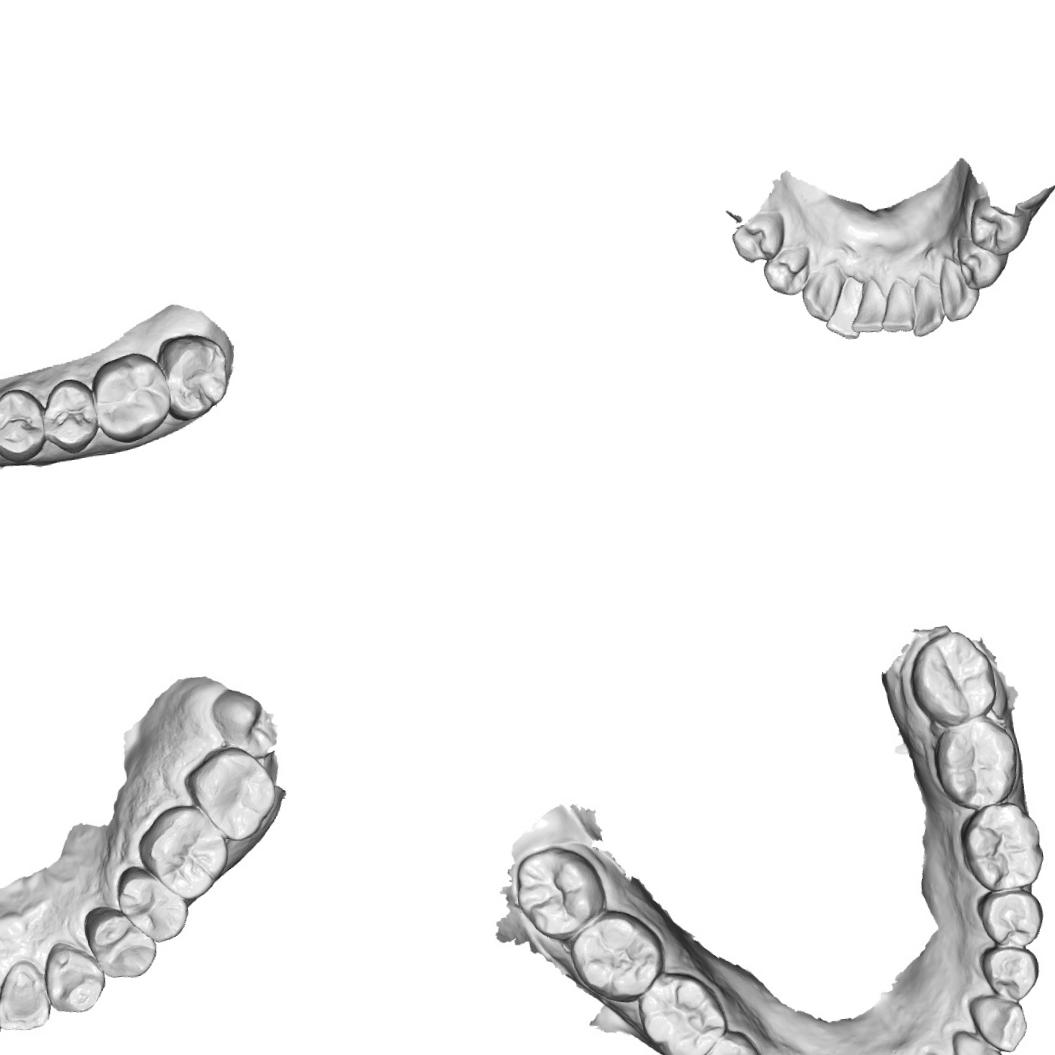canine: (38, 937, 110, 1016), (967, 990, 1034, 1055), (933, 252, 984, 324), (796, 260, 849, 324)
incisor: (0, 958, 51, 1033), (818, 273, 870, 344), (906, 270, 946, 338), (845, 276, 889, 336), (876, 274, 916, 336), (949, 1027, 1007, 1055)
molar: (564, 904, 669, 1010), (180, 742, 282, 848), (133, 798, 232, 905), (512, 840, 605, 940), (907, 628, 1000, 727), (958, 795, 1044, 899), (632, 964, 729, 1055), (932, 712, 1019, 813), (89, 348, 173, 447), (161, 330, 232, 423)
premolar: (81, 899, 162, 984), (113, 858, 190, 947), (964, 188, 1035, 259), (974, 884, 1047, 953), (41, 376, 102, 456), (979, 942, 1043, 1006), (952, 226, 1012, 294), (0, 385, 48, 464), (728, 206, 790, 266), (758, 241, 816, 300), (696, 1028, 764, 1055)
